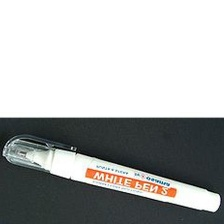correction_fluid: (0, 132, 222, 215)
